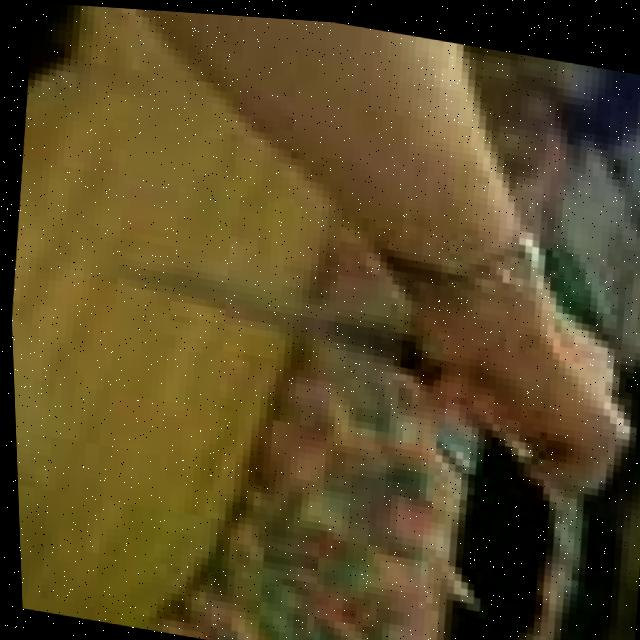knife: (95, 240, 420, 392)
